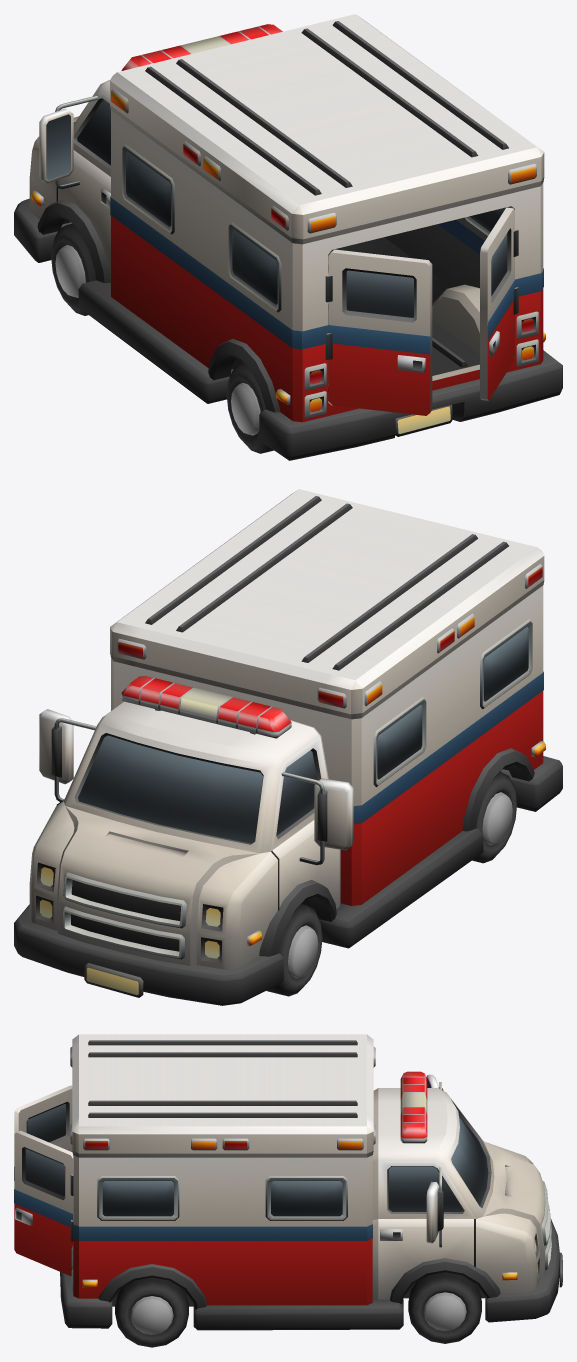
The model's file is VHC0110026.FBX.
3 views of the same model, one above another, from view 1: azimuth 30°, elevation 25°; view 2: azimuth 150°, elevation 25°; view 3: azimuth 270°, elevation 25° (orthographic). The views are drawn at different scales.
Parts seen in each view (by area): view 1: smVHC0110026; view 2: smVHC0110026; view 3: smVHC0110026.
Boxes of the visible parts, left/top/right/bottom form: smVHC0110026: left=14, top=14, right=562, bottom=460; smVHC0110026: left=14, top=489, right=562, bottom=1005; smVHC0110026: left=14, top=1034, right=562, bottom=1347.
Bounding box in the file's own units: 3.09 × 2.68 × 5.94.
Materials: 1 (1 with a texture image).
